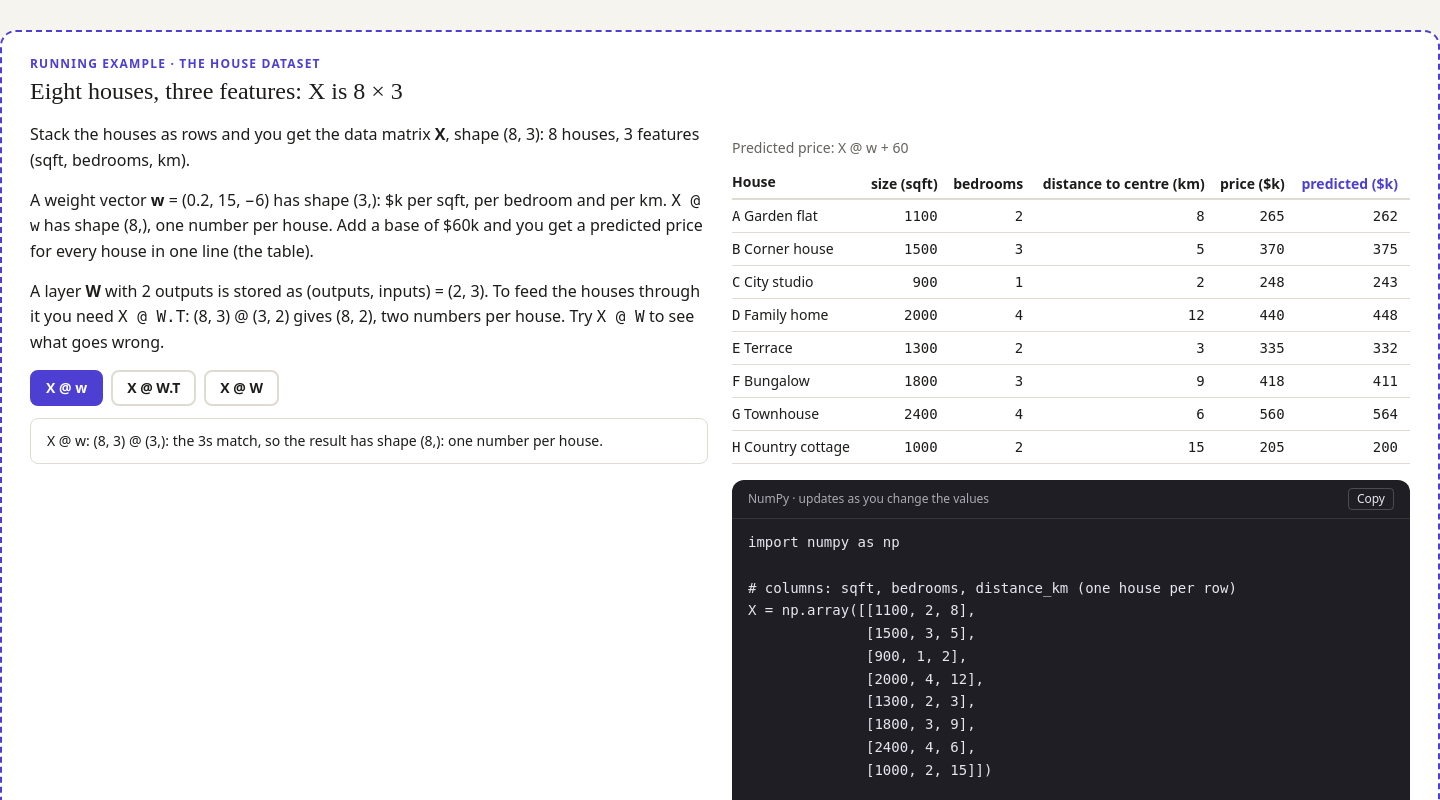
Test: running example: X @ w, X @ W.T and X @ W › buttons switch the check and the snippet
Expected: the text with test id "house-shape-check" shows "X @ w: (8, 3) @ (3,)", [47,431,603,450]
Expected: the row "B Corner house 1500 3 5 370 375" is shown, [732,232,1410,266]
What coordinates should you click on to do the following:
click the button "X @ W.T"
I would click on:
 (154, 388)
Its box is [111,370,196,406].
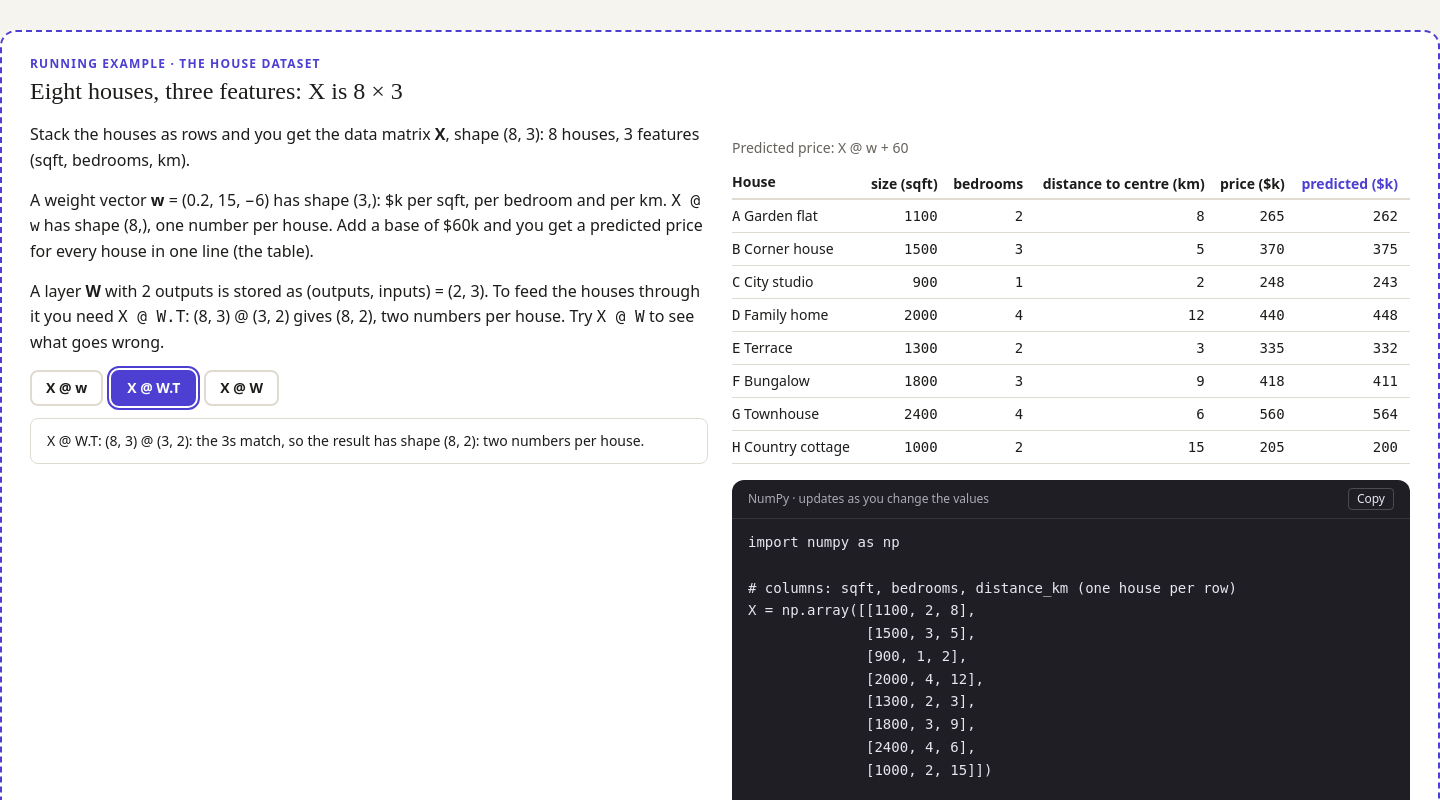
Now the text with test id "house-shape-check" shows "shape (8, 2)", box [105,431,644,450]
What coordinates should you click on to do the following:
click the button "X @ W"
I would click on:
 (242, 388)
Its box is [204,370,279,406].
(page scrolled)
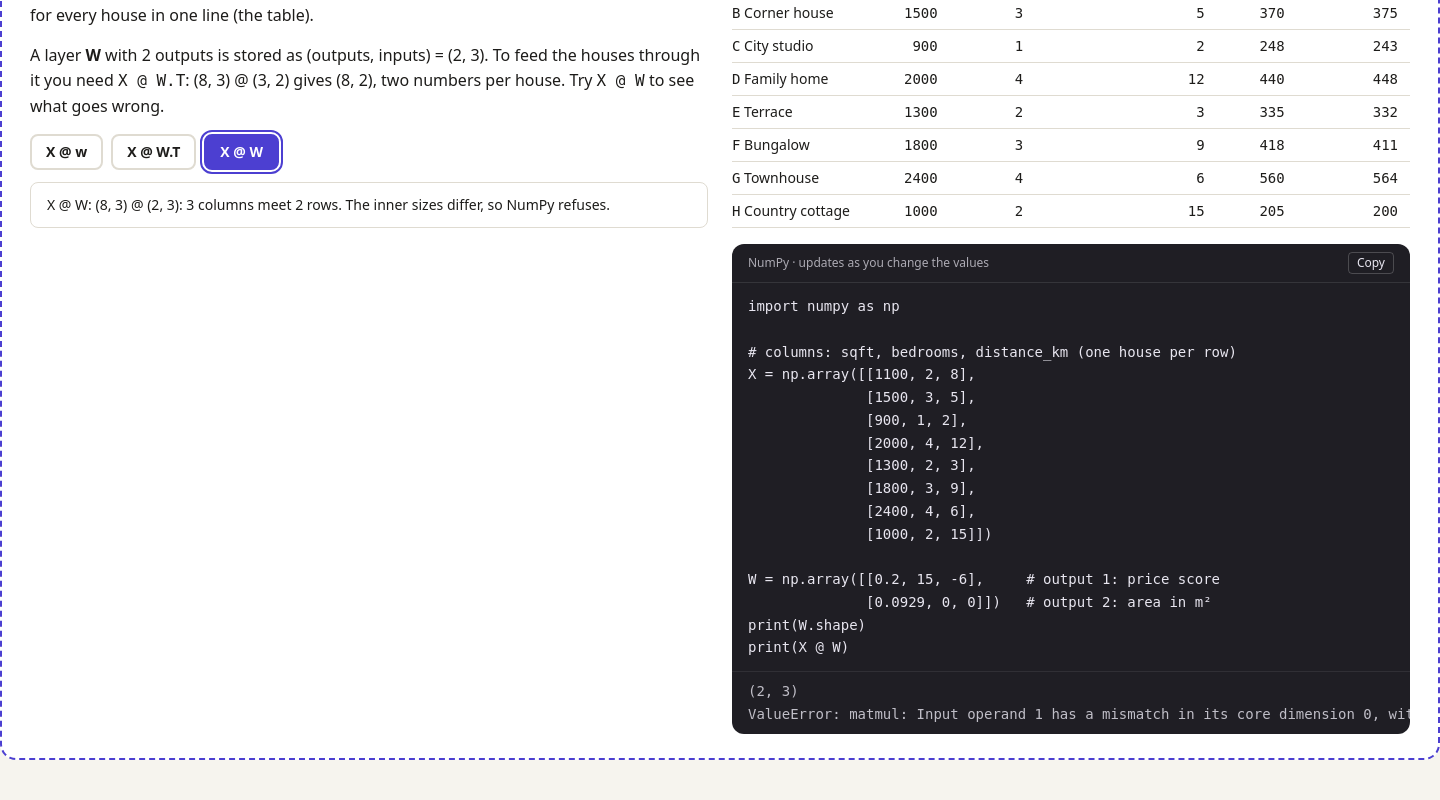
Now the text with test id "house-shape-check" shows "NumPy refuses", box [96,195,610,214]
